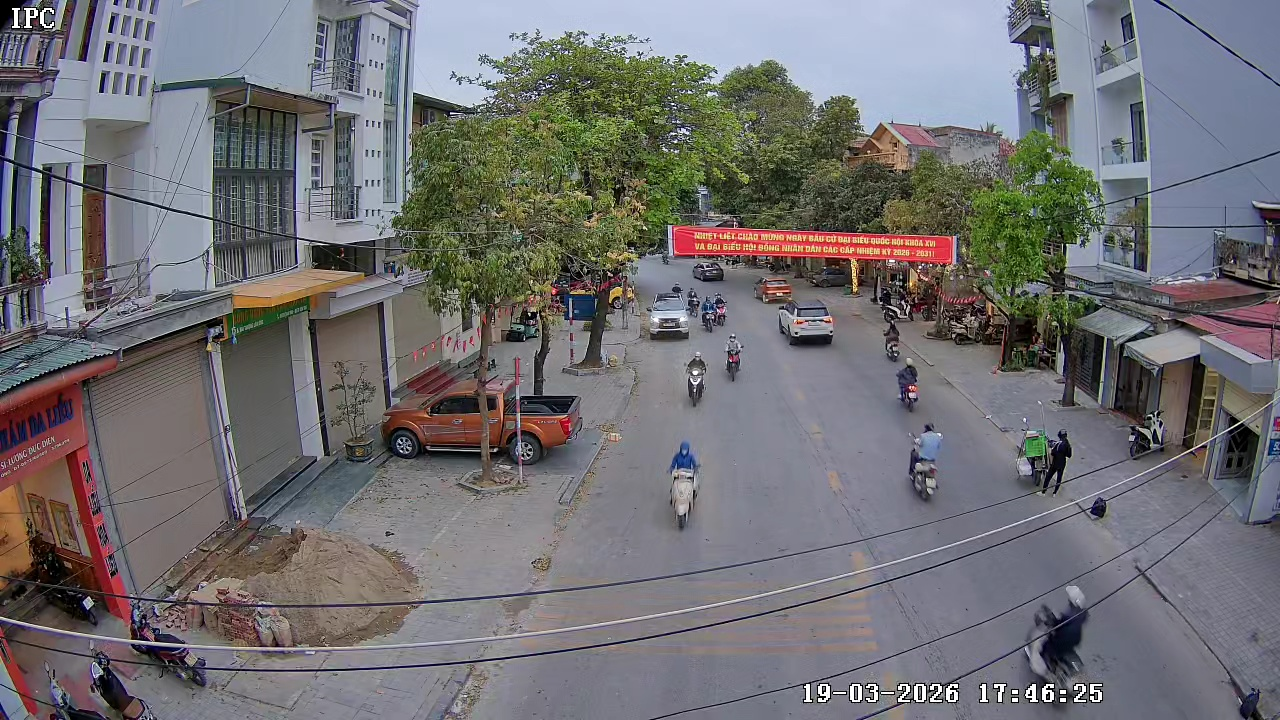car: (779, 300, 835, 346), (646, 298, 689, 339), (754, 275, 794, 303)
motorbike: (1020, 585, 1108, 717), (1018, 425, 1072, 497), (666, 439, 703, 531), (905, 421, 944, 502), (895, 358, 921, 412), (684, 352, 708, 406), (723, 332, 744, 383), (883, 324, 901, 363), (703, 295, 719, 333), (719, 295, 730, 328)
truck: (379, 372, 583, 461)
